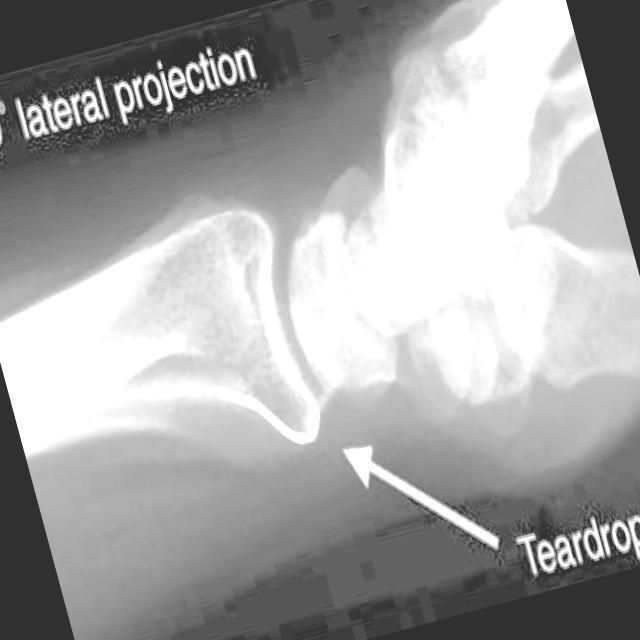Fracture Dislocation: (258, 387, 344, 444)
